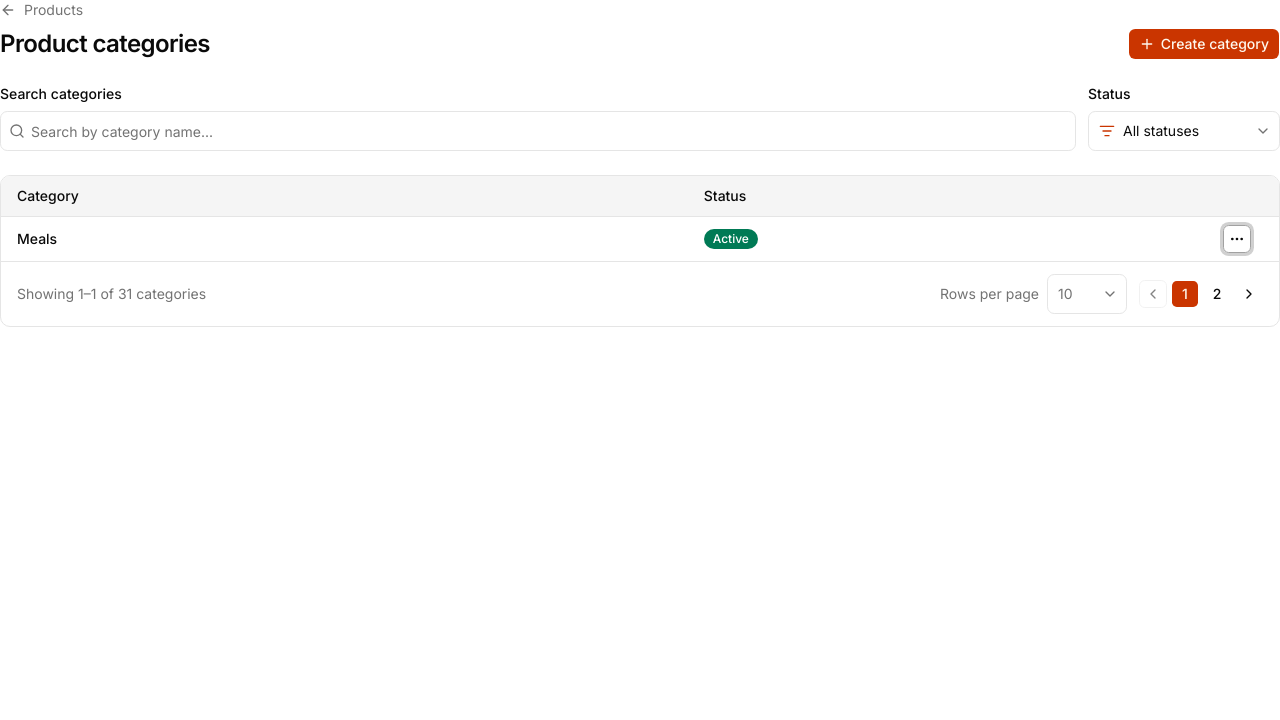
Test case: category management › guards dirty edit cancellation and preserves the name while keeping editing
The image size is (1280, 720).
Press Enter
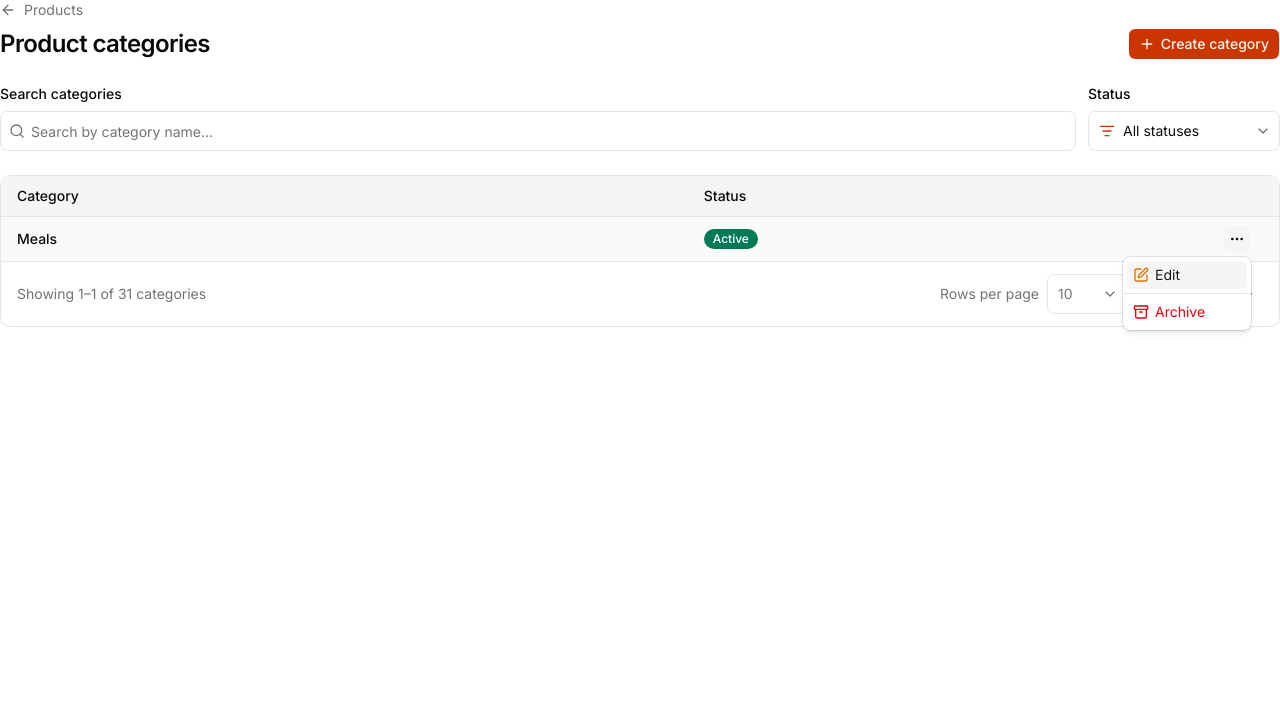
Click the menu item "Edit" at (1187, 275), box [1127,261,1247,289]
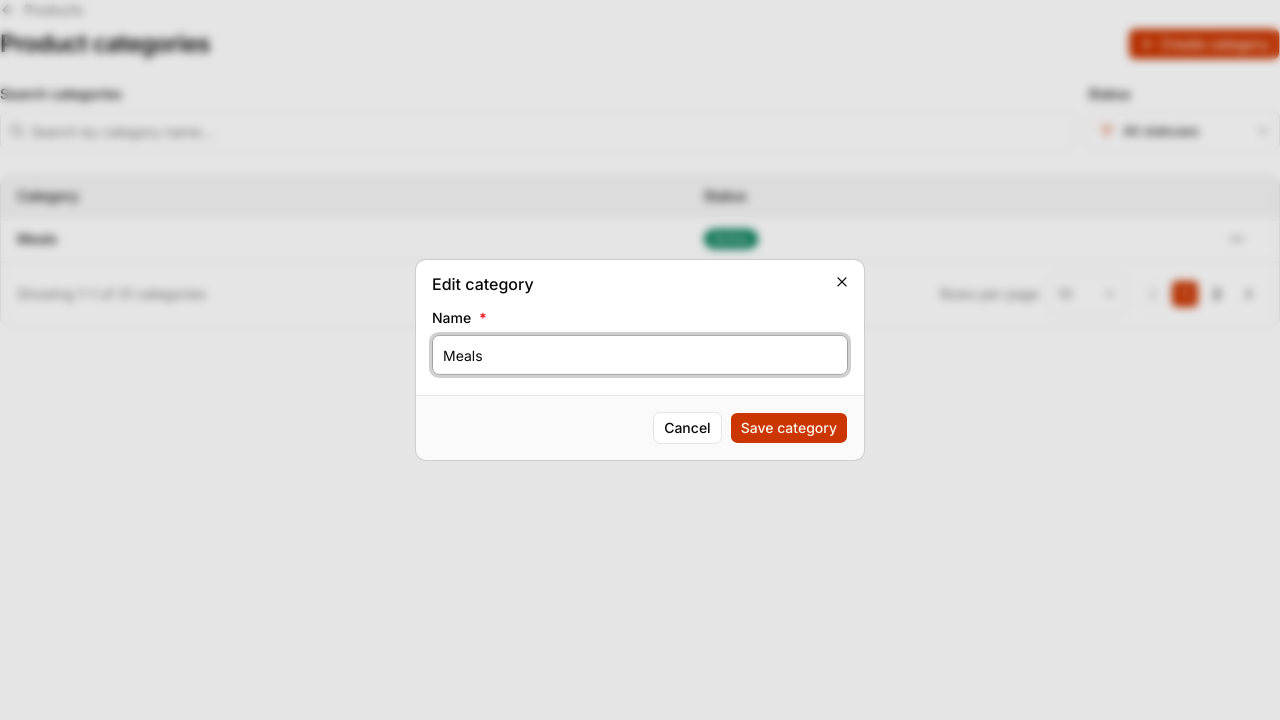
Type " and drinks" into the field labelled "Name *" at (640, 355), box [432,335,848,375]
Click the button "Cancel" at (687, 428), box [653,412,722,444]
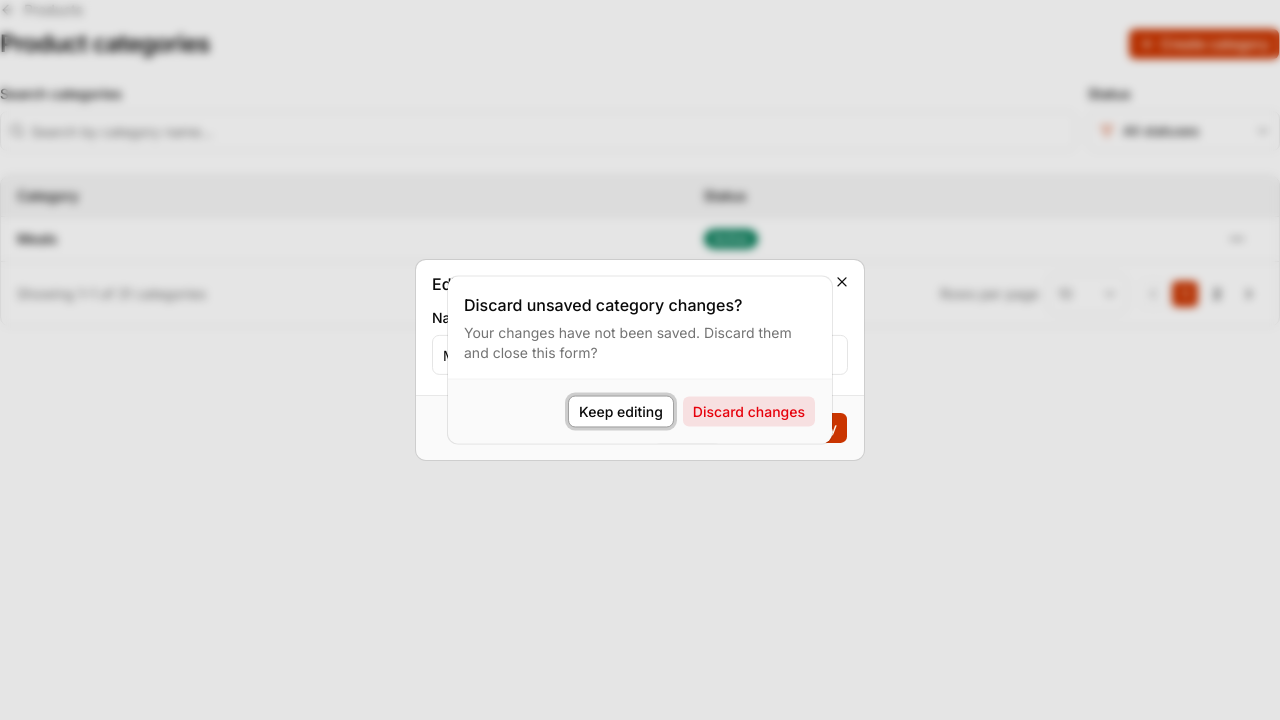
Result: the dialog that starts with "Discard unsaved" is shown at [448,276,832,444]
Click the button "Keep editing" at (621, 412), box [568,396,674,428]
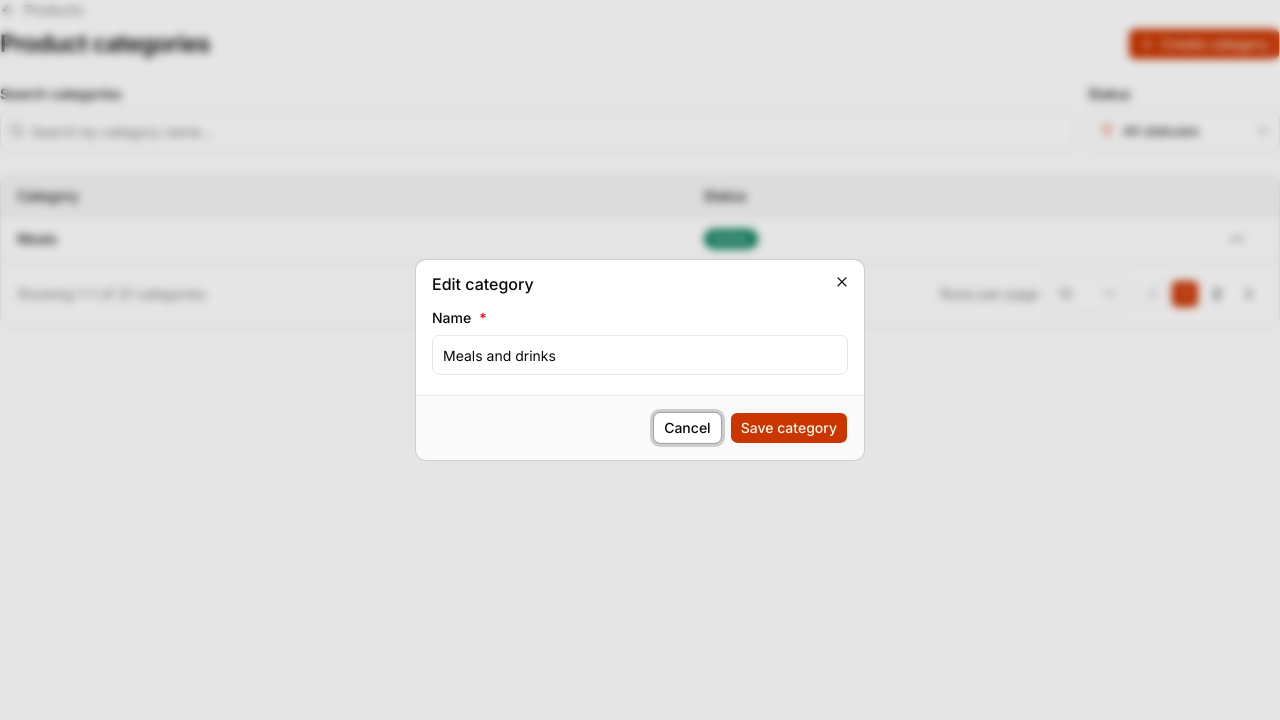
Result: the field labelled "Name *" holds "Meals and drinks" at [432,335,848,375]
Click the button "Cancel" at (687, 428), box [653,412,722,444]
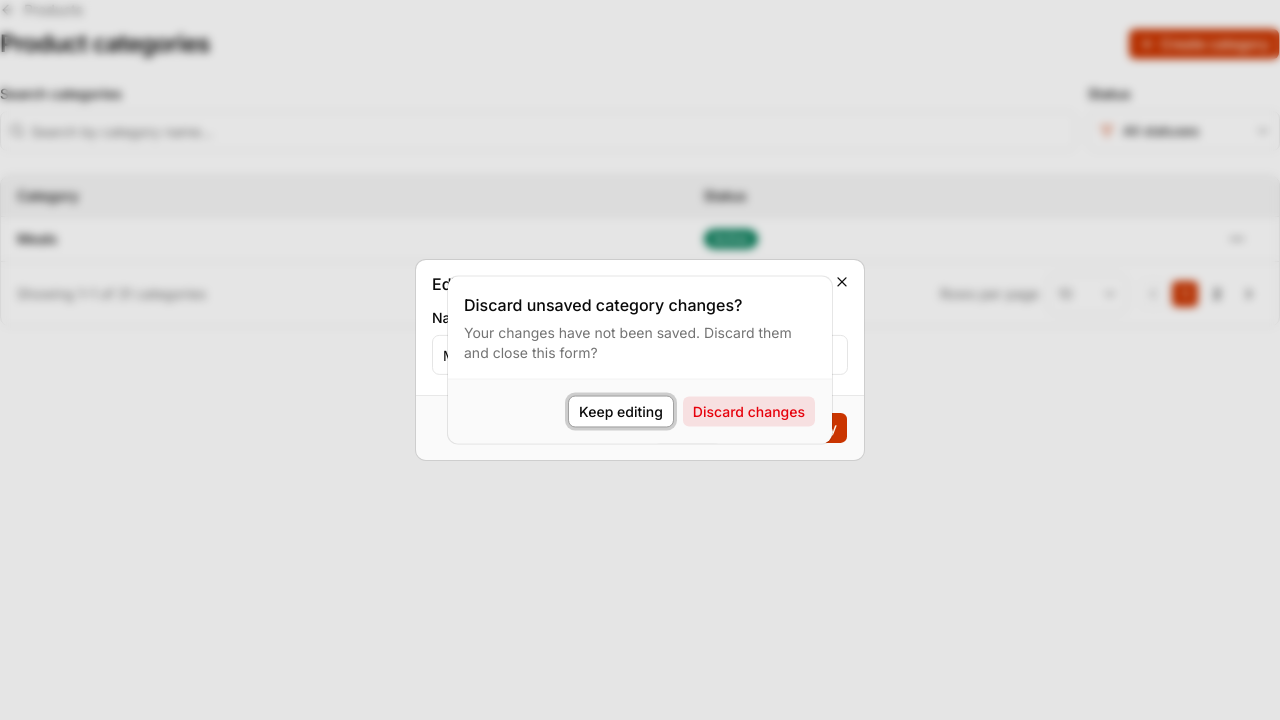
Click the button "Discard changes" at (749, 412), box [682,396,816,428]
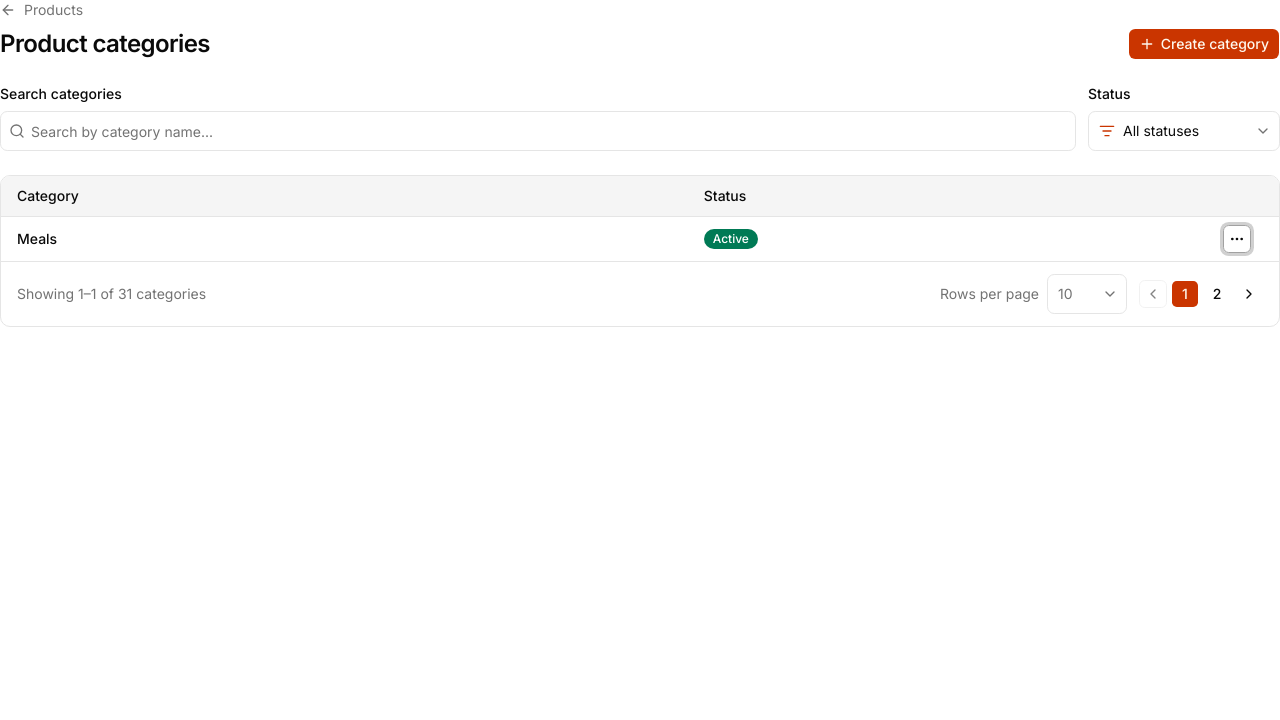
Result: the dialog is gone
